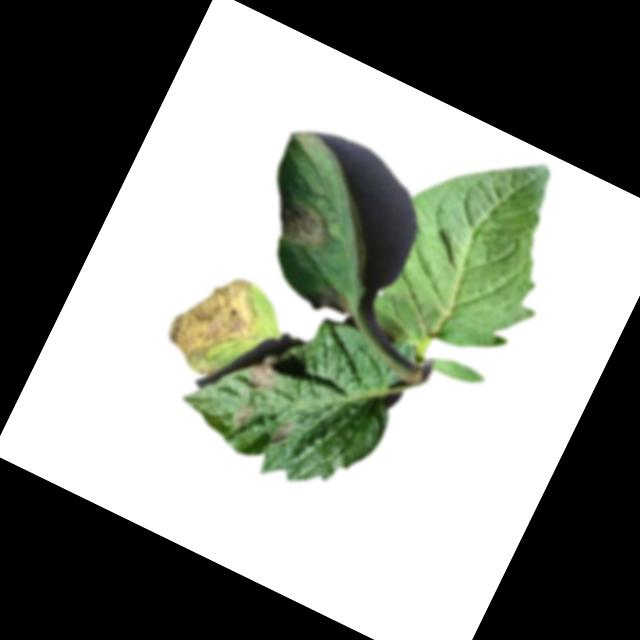Late_blight: (156, 258, 280, 391), (271, 192, 343, 257), (303, 278, 357, 324), (243, 347, 286, 395), (269, 414, 299, 448), (230, 398, 259, 431)
